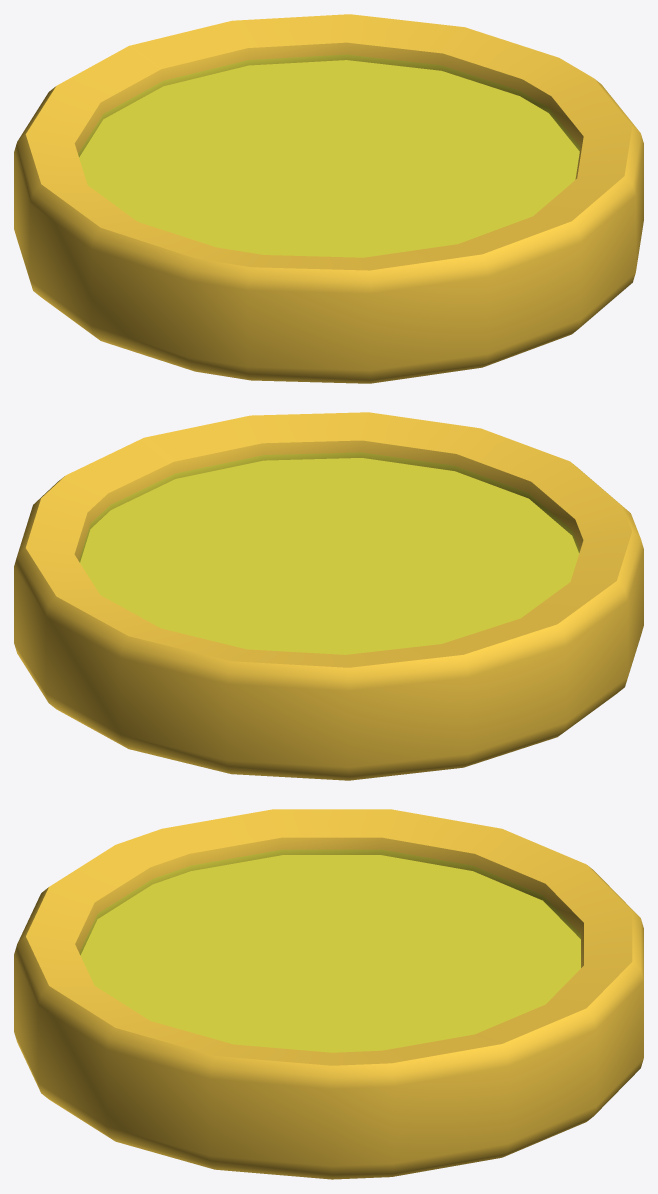
File: coin.fbx
The picture shows the model from 3 angles, top to bottom: view 1: azimuth 30°, elevation 25°; view 2: azimuth 150°, elevation 25°; view 3: azimuth 270°, elevation 25°; orthographic projection.
Parts seen in each view (by area): view 1: Gold_Coin; view 2: Gold_Coin; view 3: Gold_Coin.
Part boxes in pixels (bbox=[...]): Gold_Coin: bbox=[14, 14, 643, 383]; Gold_Coin: bbox=[14, 412, 643, 780]; Gold_Coin: bbox=[14, 809, 643, 1179].
Bounding box in the file's own units: 3.82 × 0.7603 × 3.82.
